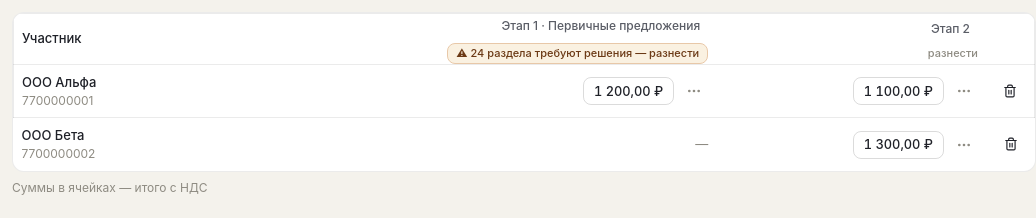
Test: OfferGrid: меню отметки победителя › пункт «Отметить победителем» есть только в ячейке финального этапа, в этапе 1 того же участника его нет
Click the 1st button named "Действия с КП".
click(694, 91)  # box [680,77,708,105]
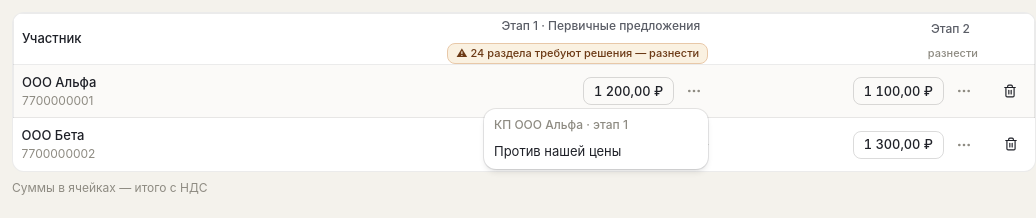
Press Escape
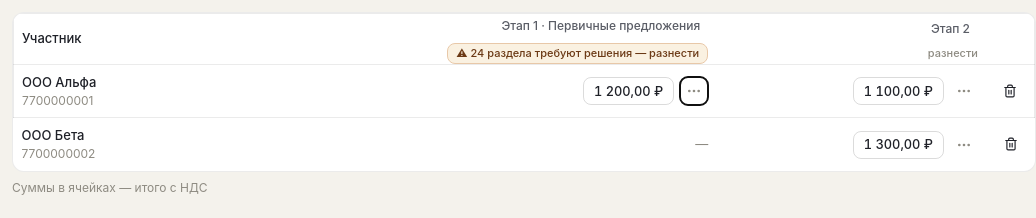
Expected: the menu item is gone
Click the 2nd button named "Действия с КП".
click(964, 91)  # box [950,77,978,105]
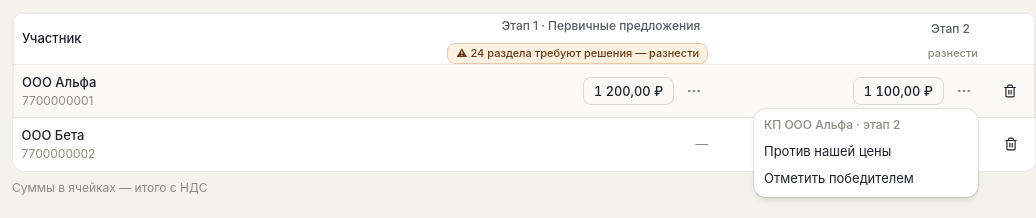
Press Escape
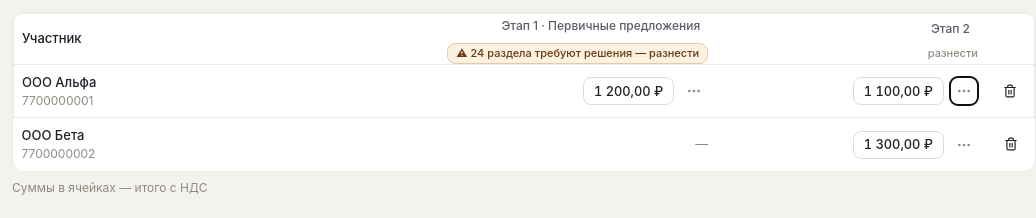
Expected: the menu item is gone
